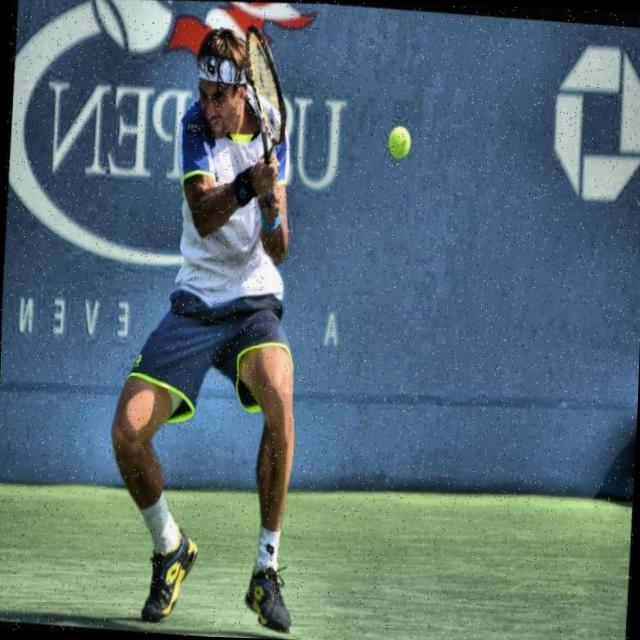Tennis Ball: (385, 120, 414, 161)
